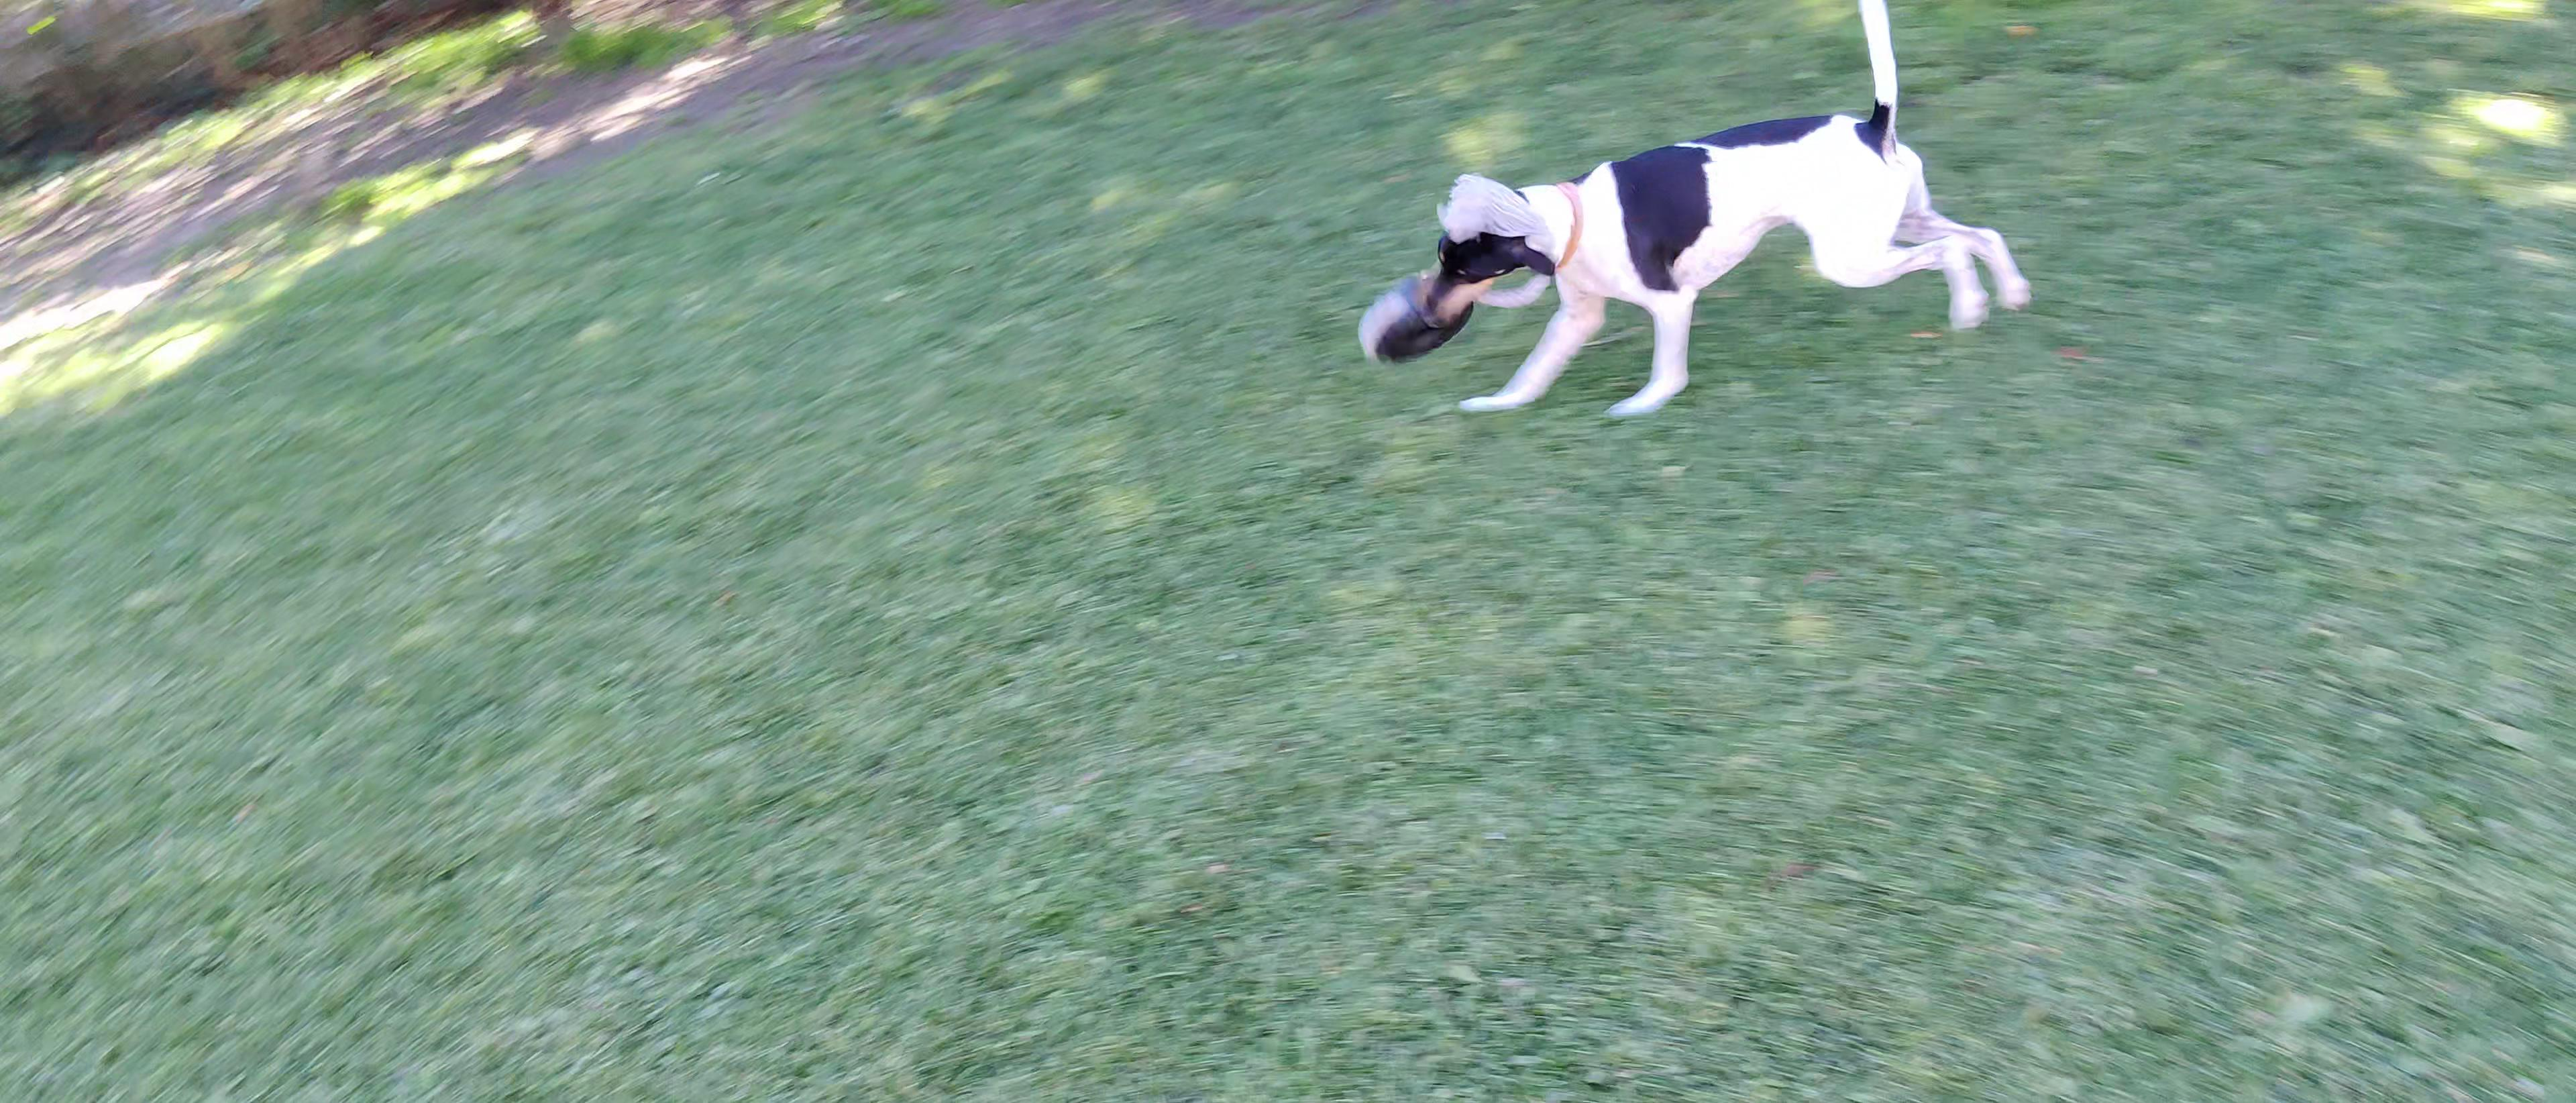Dog: (1410, 0, 2047, 442)
